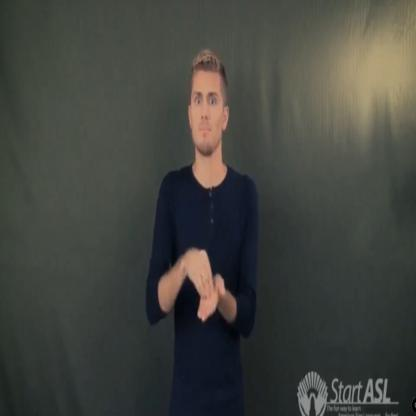Expensive: (165, 229, 236, 336)
